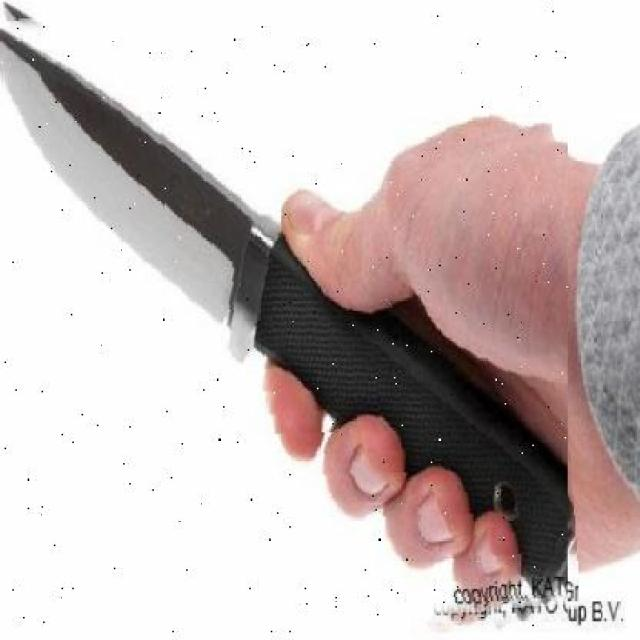knife: (0, 0, 568, 637)
